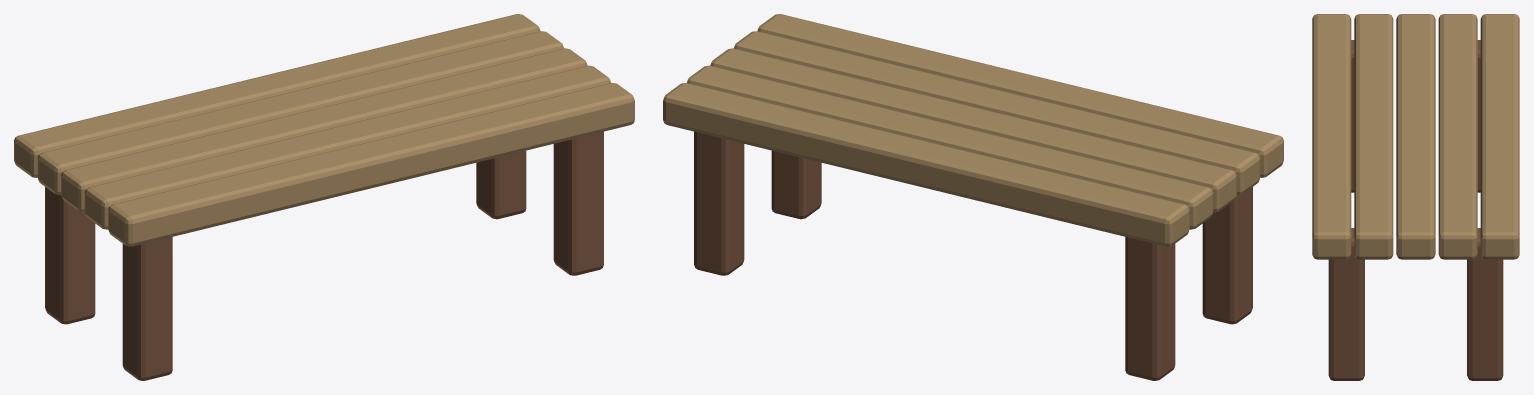
The model's file is prop_bench__attachments.glb.
The picture shows the model from 3 angles, left to right: view 1: azimuth 30°, elevation 25°; view 2: azimuth 150°, elevation 25°; view 3: azimuth 270°, elevation 25°; orthographic projection. The views are drawn at different scales.
Parts seen in each view (by area): view 1: prop_bench__attachments__mesh_00; view 2: prop_bench__attachments__mesh_00; view 3: prop_bench__attachments__mesh_00.
Boxes of the visible parts, left/top/right/bottom form: prop_bench__attachments__mesh_00: left=14, top=14, right=634, bottom=380; prop_bench__attachments__mesh_00: left=663, top=14, right=1283, bottom=380; prop_bench__attachments__mesh_00: left=1312, top=14, right=1519, bottom=380.
Bounding box in the file's own units: 1.75 × 0.58 × 0.69.
